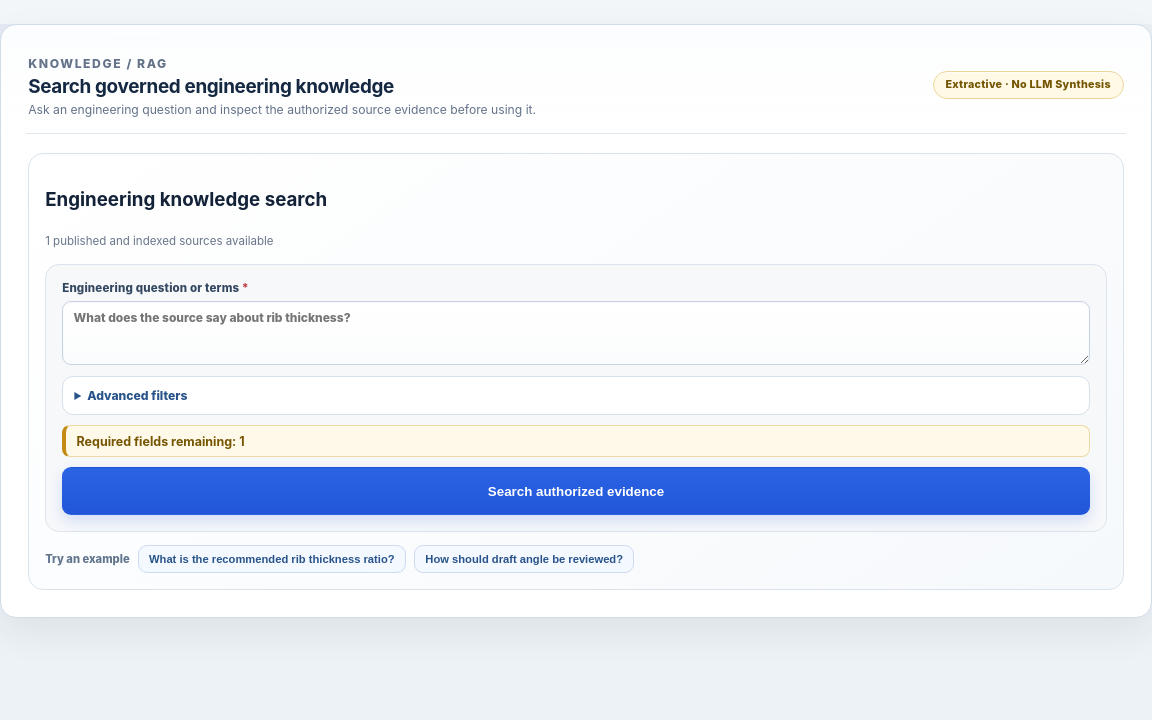
Test: KnowledgeSearchWorkspace › offers the governed PDF viewer only for a PDF citation
This screenshot has width=1152, height=720.
Type "rib thickness" into the text box labelled "Engineering question or terms *" at (576, 333), box [62,301,1090,365]
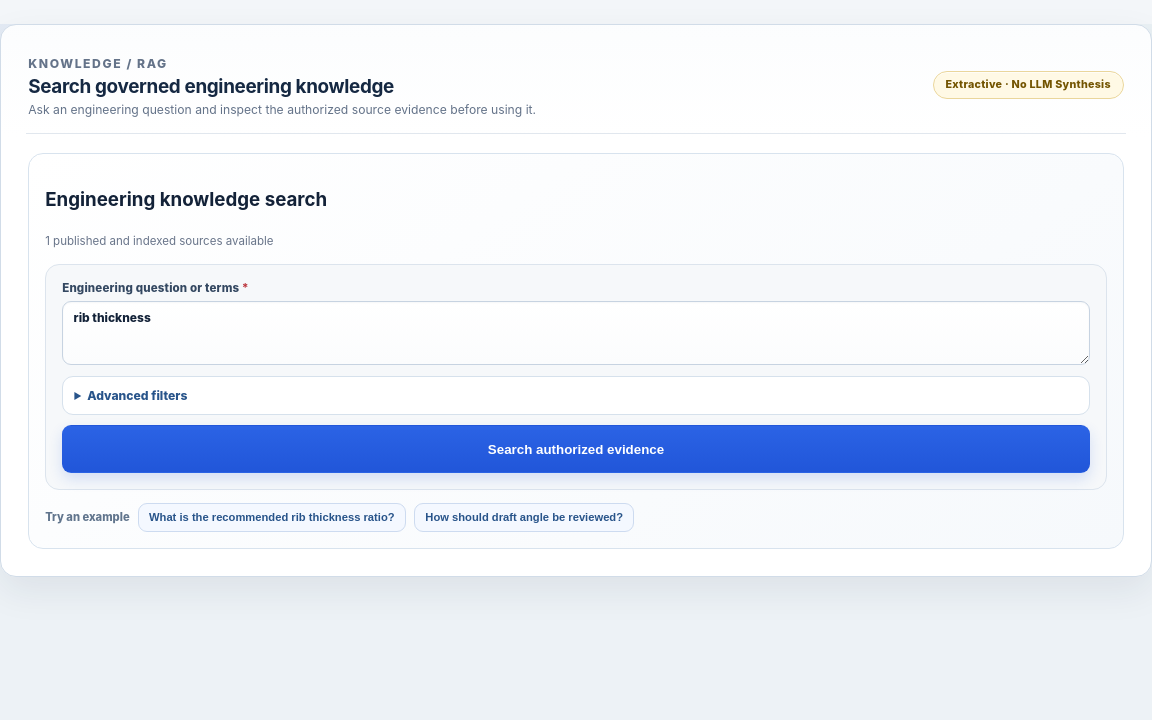
Submit the form with class "knowledge-search-form", box [45,264,1107,490]
(page scrolled)
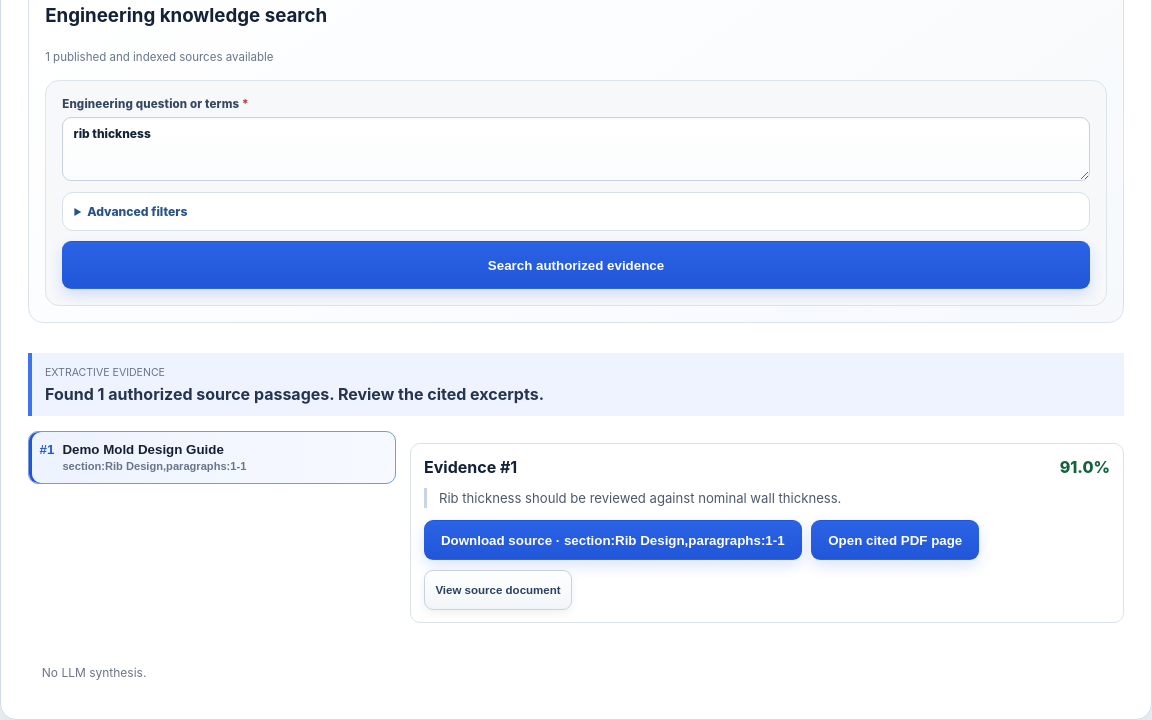
Check: the button "Open cited PDF page" is shown, box [811,520,979,560]
